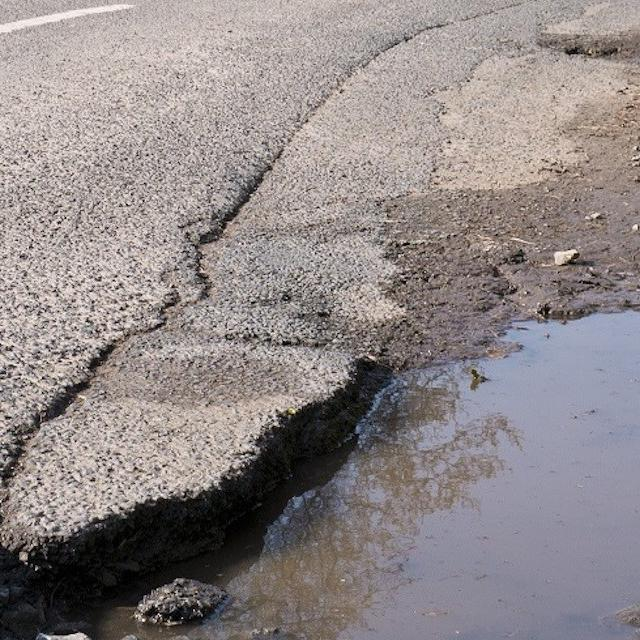lubang_kecil: (0, 287, 640, 640), (526, 15, 640, 81)
